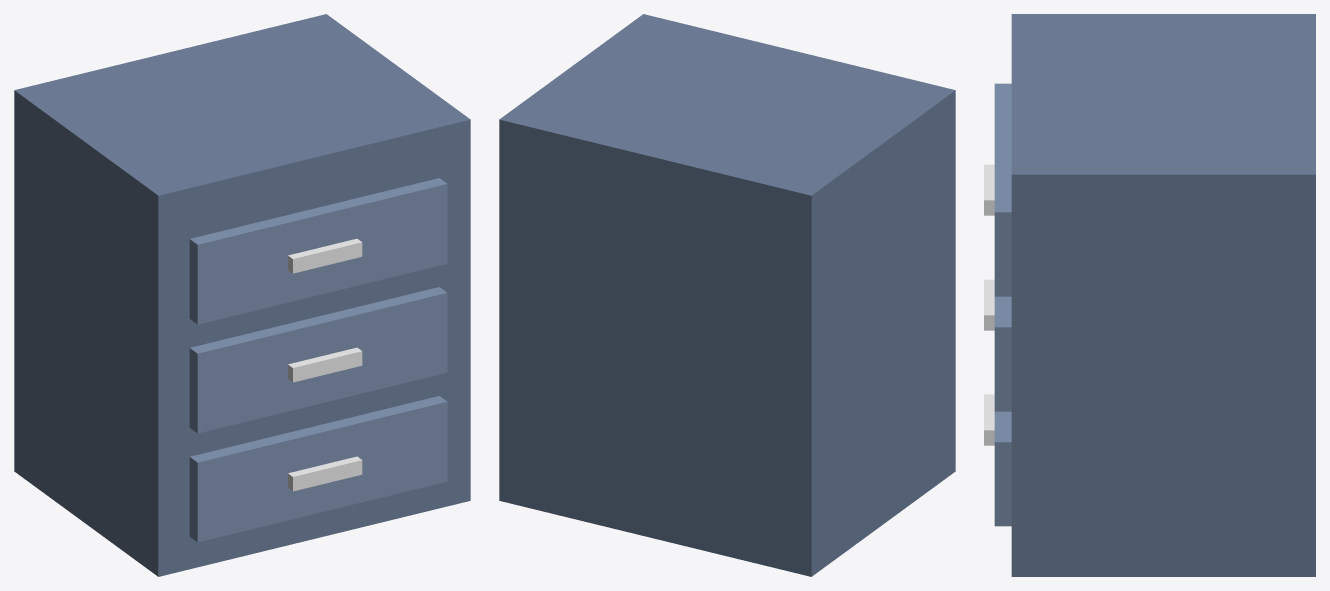
Rendered from 03_drawer_cabinet.glb.
3 renders of one model, left to right at view 1: azimuth 30°, elevation 25°; view 2: azimuth 150°, elevation 25°; view 3: azimuth 270°, elevation 25°, orthographic. The views are drawn at different scales.
Parts seen in each view (by area): view 1: part_1, part_2, part_6, part_4, part_3, part_5, part_7; view 2: part_1; view 3: part_1, part_6, part_4, part_2, part_3, part_5, part_7.
Boxes of the visible parts, bbox=[...] form: part_1: bbox=[14, 14, 470, 576]; part_2: bbox=[189, 396, 447, 542]; part_6: bbox=[189, 178, 447, 324]; part_4: bbox=[189, 287, 447, 433]; part_3: bbox=[288, 456, 362, 491]; part_5: bbox=[288, 347, 362, 382]; part_7: bbox=[288, 238, 362, 273]; part_1: bbox=[499, 14, 955, 576]; part_1: bbox=[1011, 14, 1315, 576]; part_6: bbox=[994, 83, 1011, 296]; part_4: bbox=[994, 296, 1011, 411]; part_2: bbox=[994, 411, 1011, 526]; part_3: bbox=[984, 394, 994, 445]; part_5: bbox=[984, 279, 994, 330]; part_7: bbox=[984, 164, 994, 215].
Bounding box in the file's own units: 0.9 × 1.05 × 0.785.
